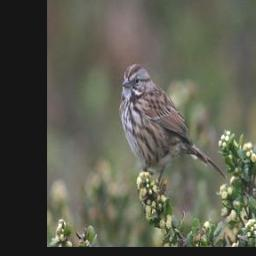Sparrow: (116, 62, 228, 197)
